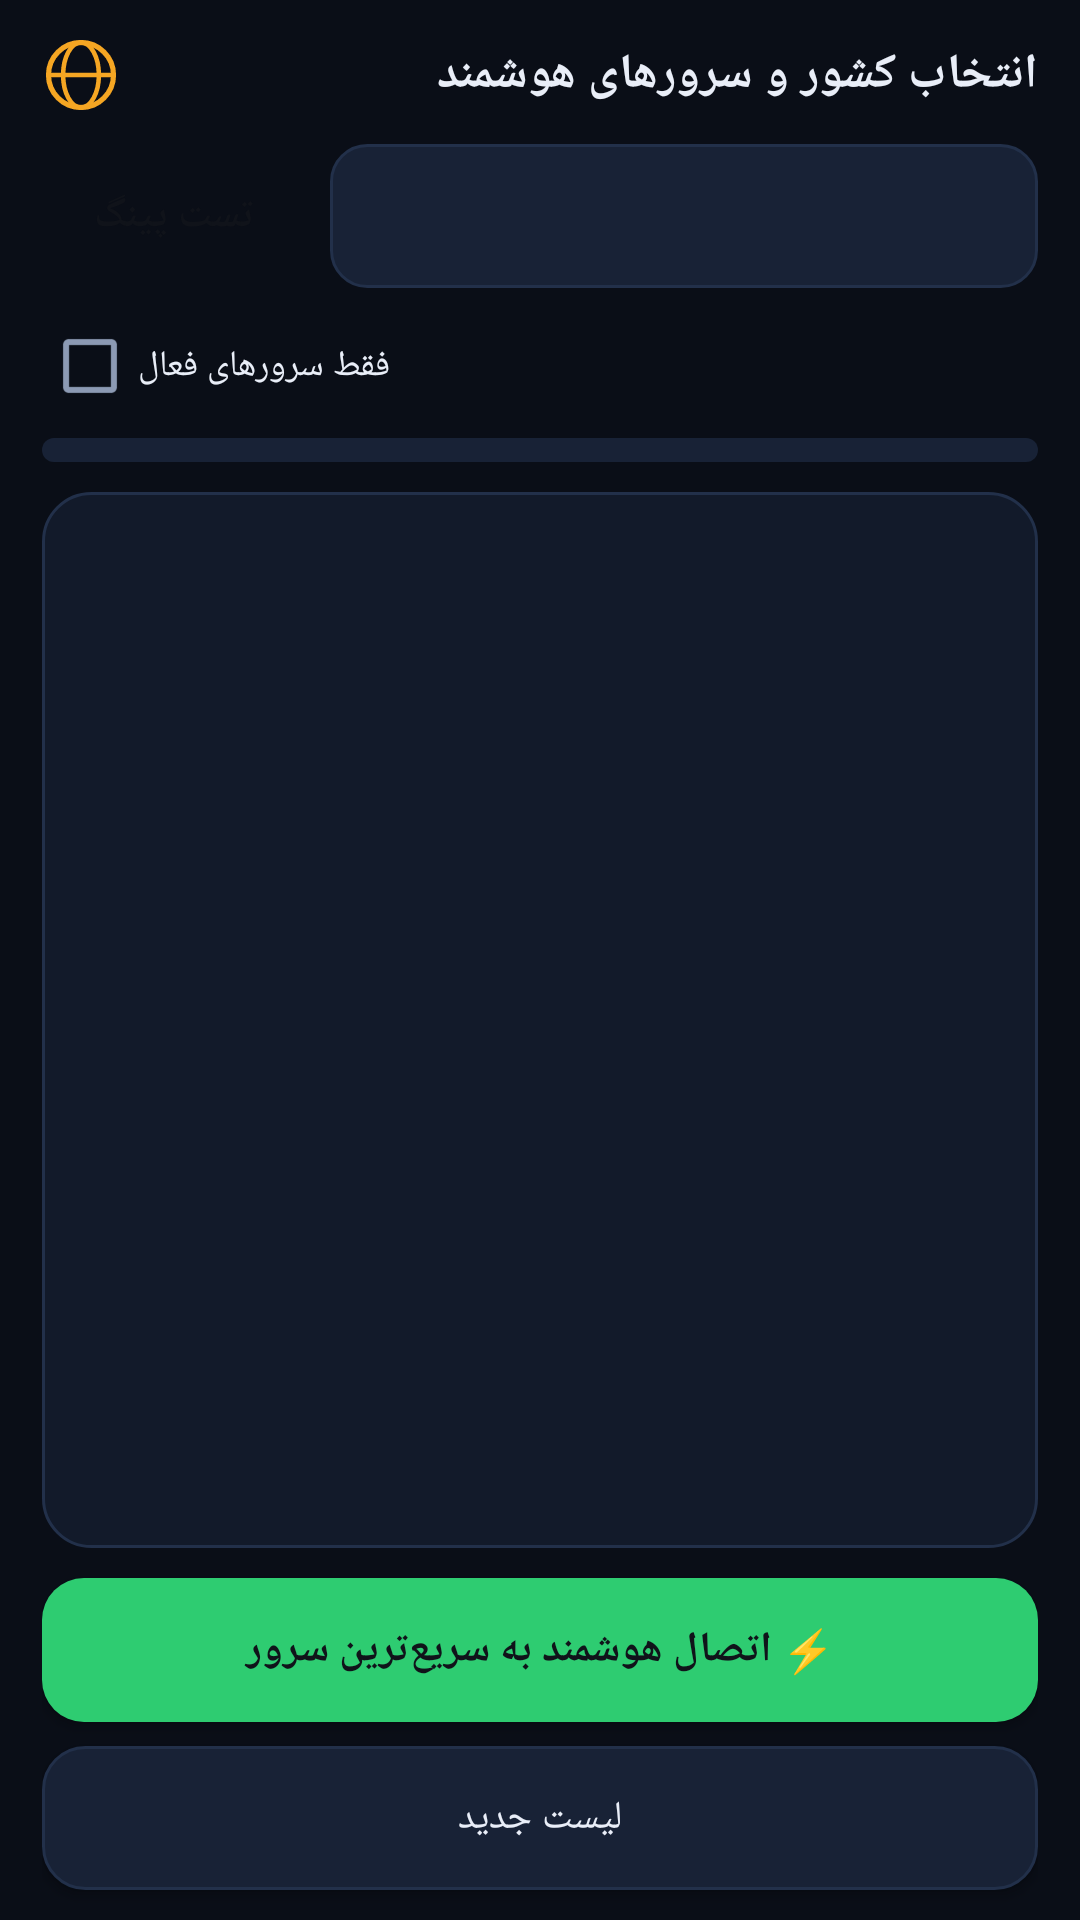

Screen size 1080px x 1920px. Icon name, then its box in pixels as {"left": x1, "top": y1, "right": x2, "bottom": y2}:
globe: {"left": 46, "top": 40, "right": 116, "bottom": 110}
